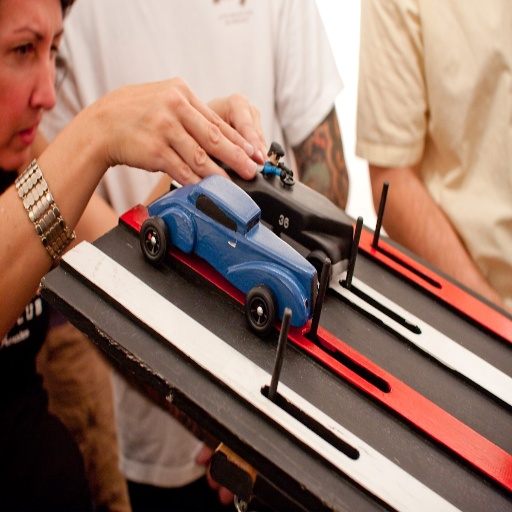hand: (97, 72, 256, 186), (204, 89, 271, 163), (193, 447, 235, 504)
